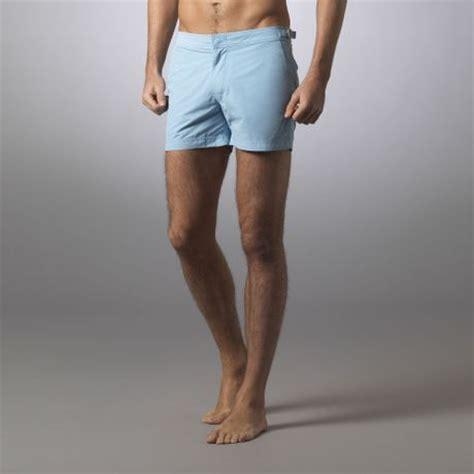short: (164, 26, 298, 152)
